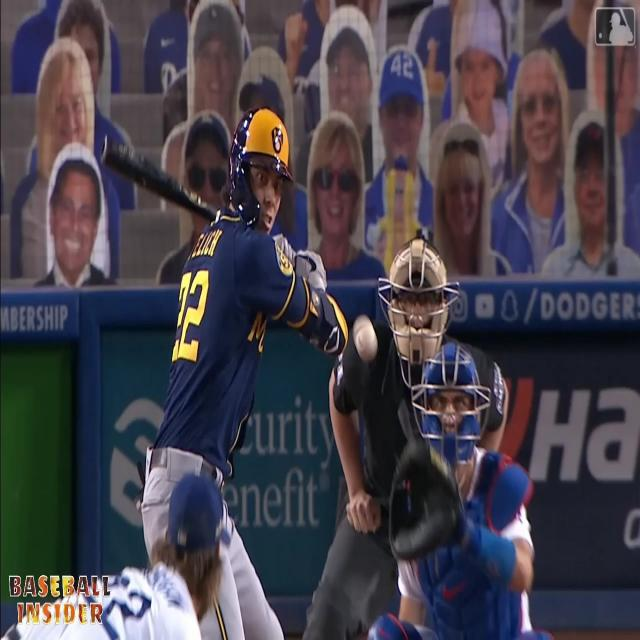baseball: (355, 319, 377, 358)
